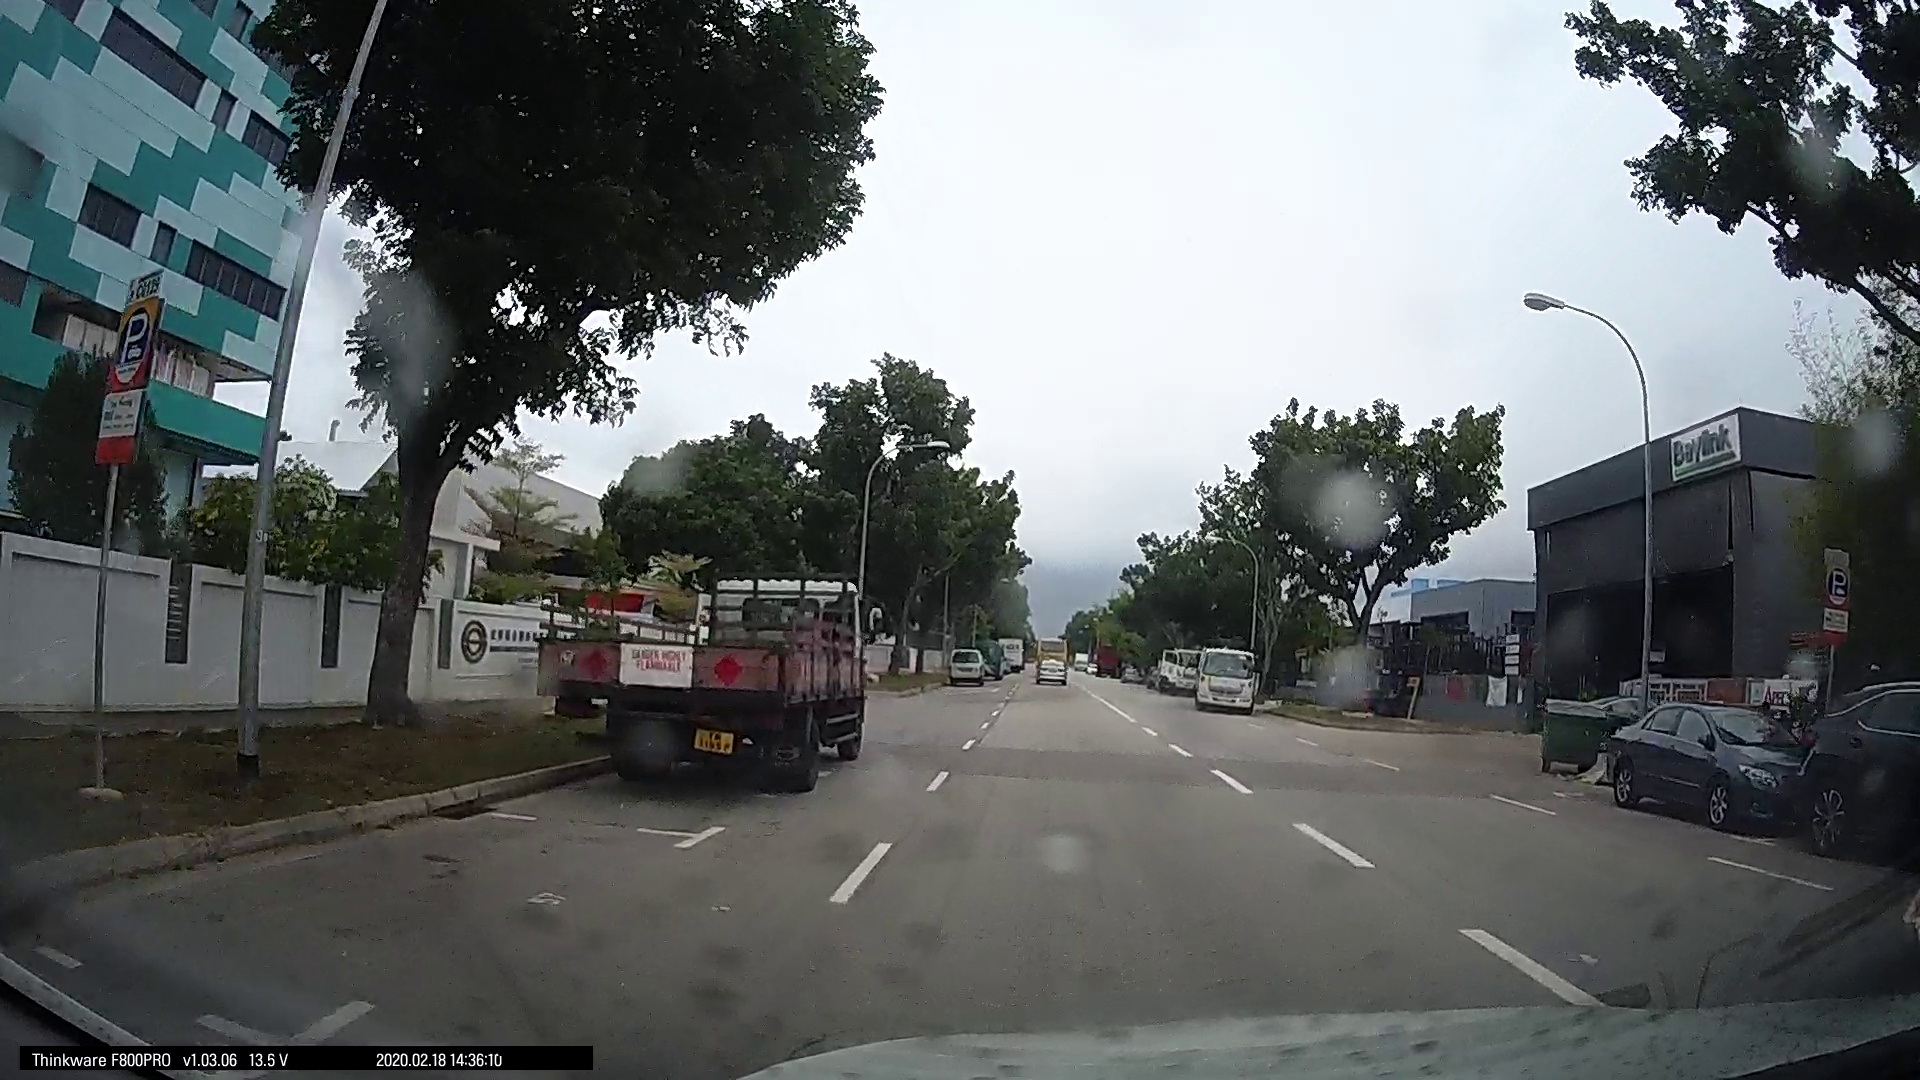Heavy Vehicle: (550, 560, 876, 782)
Light Vehicle: (1602, 698, 1812, 829), (1797, 676, 1915, 853), (1185, 644, 1258, 713), (944, 642, 992, 684), (1027, 644, 1068, 683)
